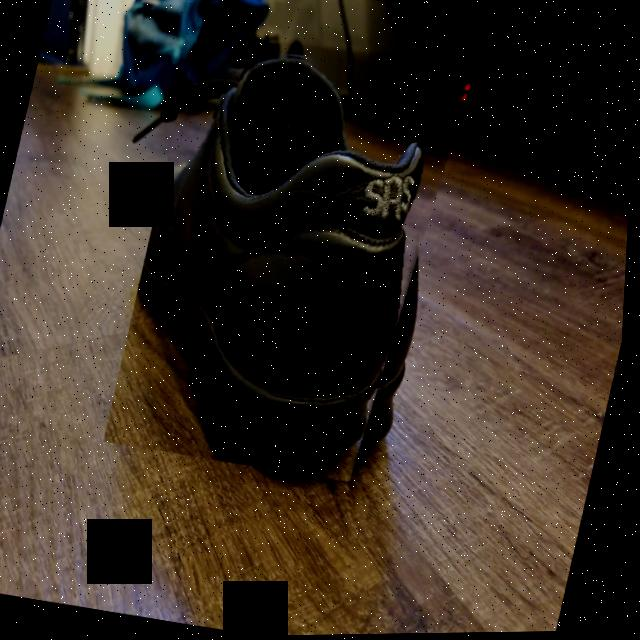shoe: (105, 32, 473, 491)
